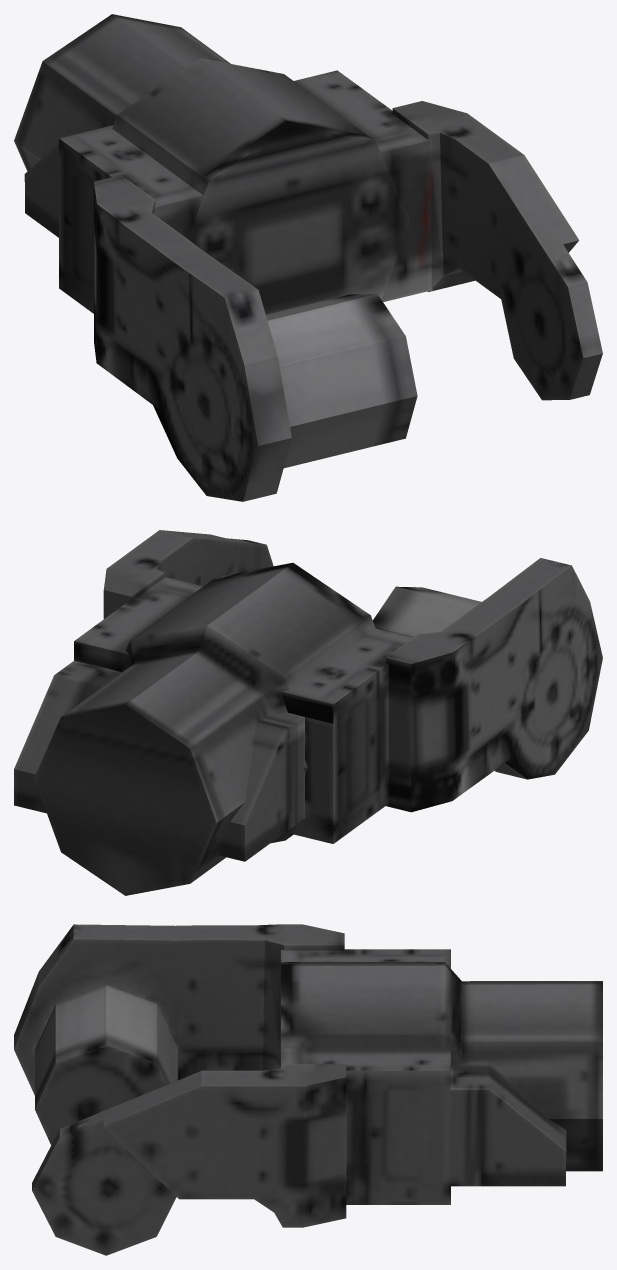
File: l_scap.dae
3 renders of one model, top to bottom at view 1: azimuth 30°, elevation 25°; view 2: azimuth 150°, elevation 25°; view 3: azimuth 270°, elevation 25°, orthographic. The views are drawn at different scales.
Visible parts, largest first — view 1: drc_l_sh_rx; view 2: drc_l_sh_rx; view 3: drc_l_sh_rx.
Boxes of the visible parts, bbox=[...] form: drc_l_sh_rx: bbox=[14, 14, 602, 501]; drc_l_sh_rx: bbox=[14, 530, 602, 895]; drc_l_sh_rx: bbox=[14, 924, 602, 1255].
Size of the model in its own units: 0.1458 by 0.2242 by 0.0955.
1 material, 1 textured.
